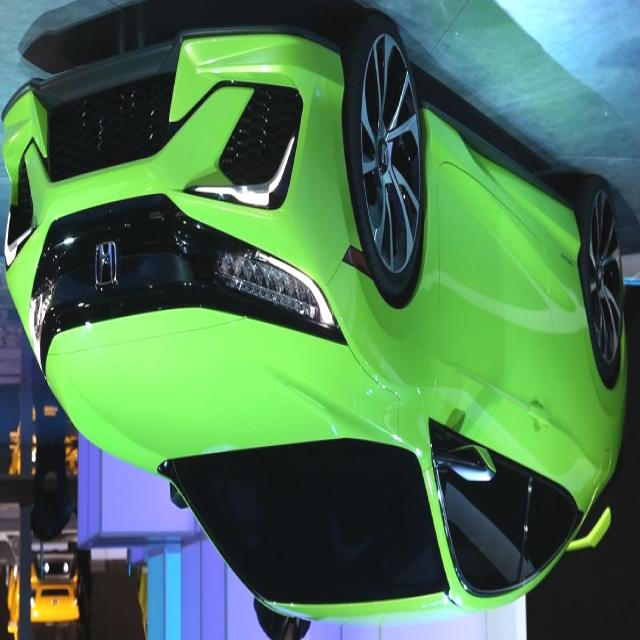green: (7, 29, 640, 628)
